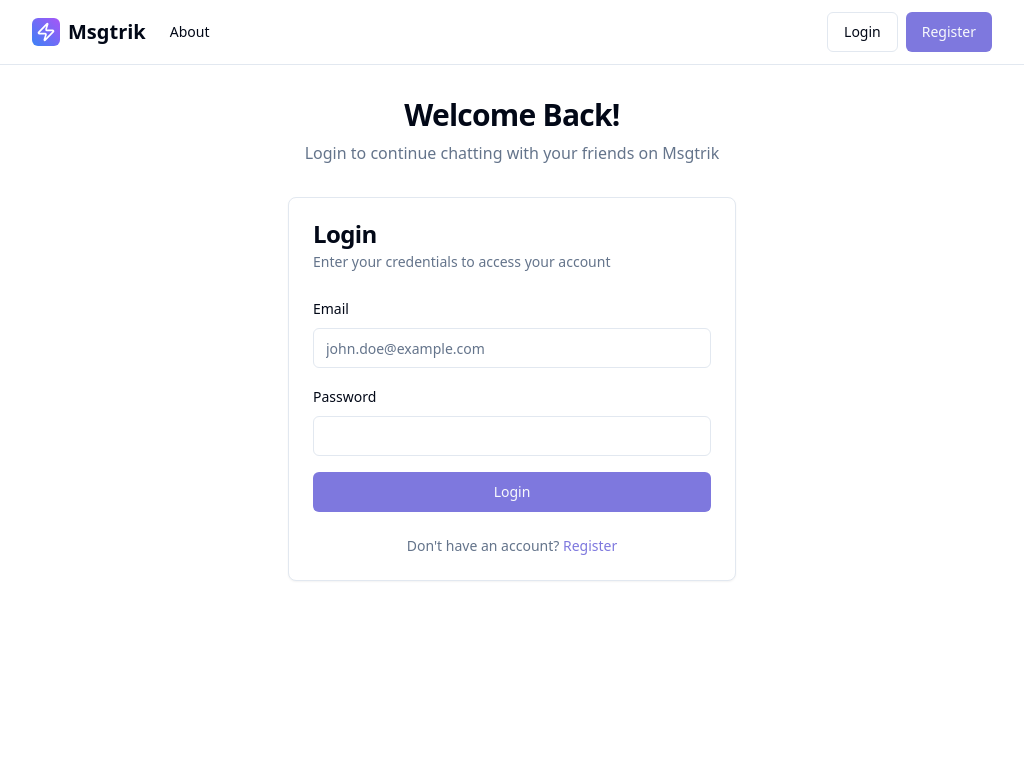
Test: Chat › should send and receive messages
In the field with id "email": (512, 348) [313, 328, 711, 368], type "test@example.com"
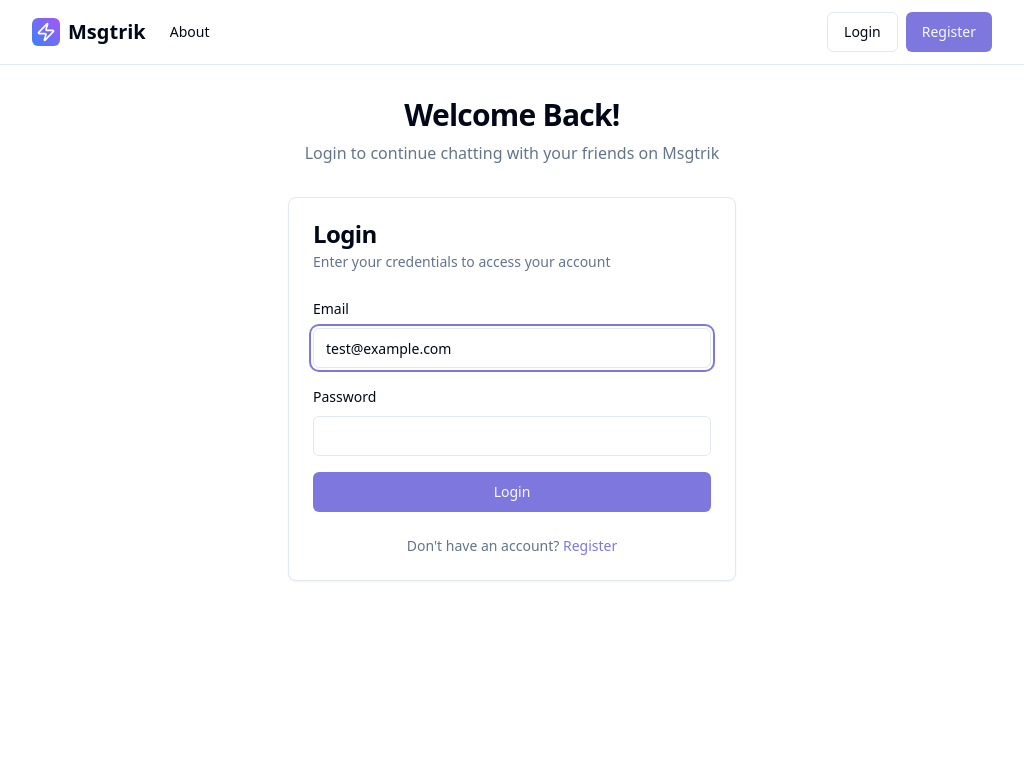
In the password field labelled "Password": (512, 436) [313, 416, 711, 456], type "testpassword"
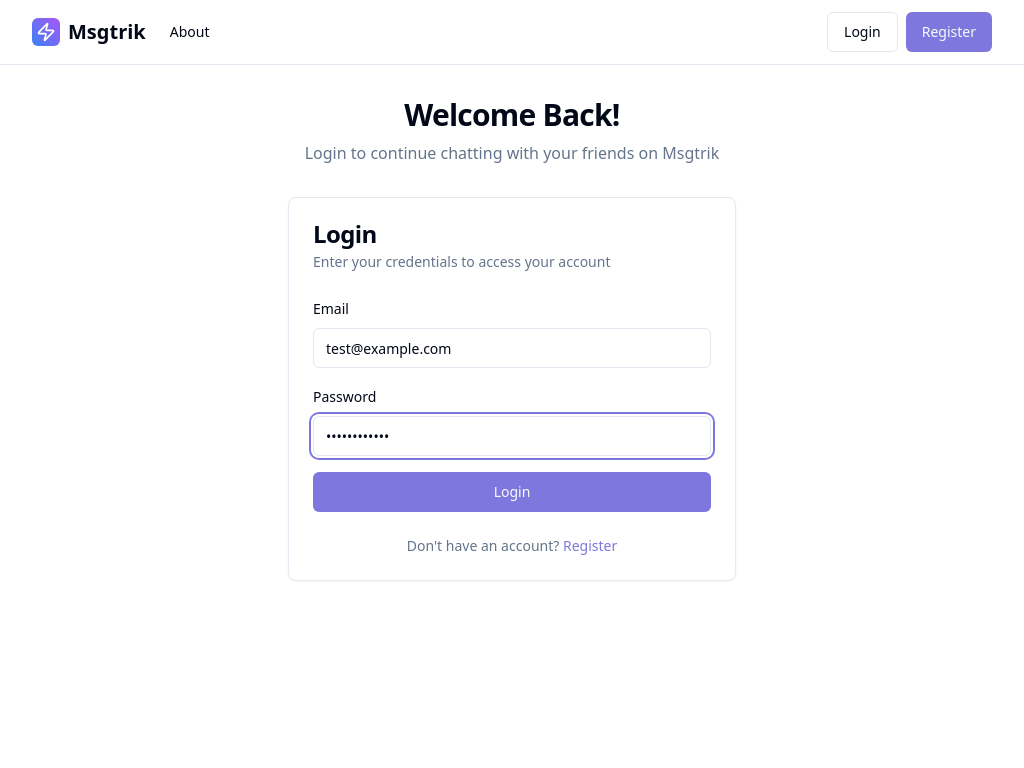
Click the submit button: (512, 492) [313, 472, 711, 512]
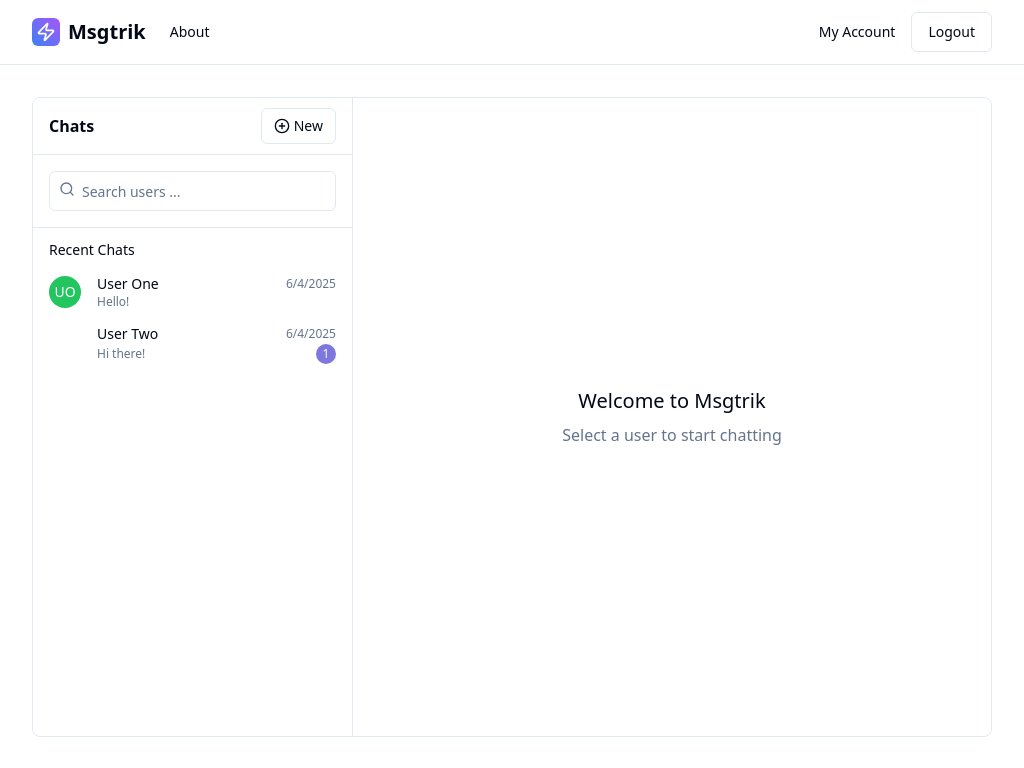
Click the button with test id "chat-item": (65, 292) [41, 268, 344, 316]
(page scrolled)
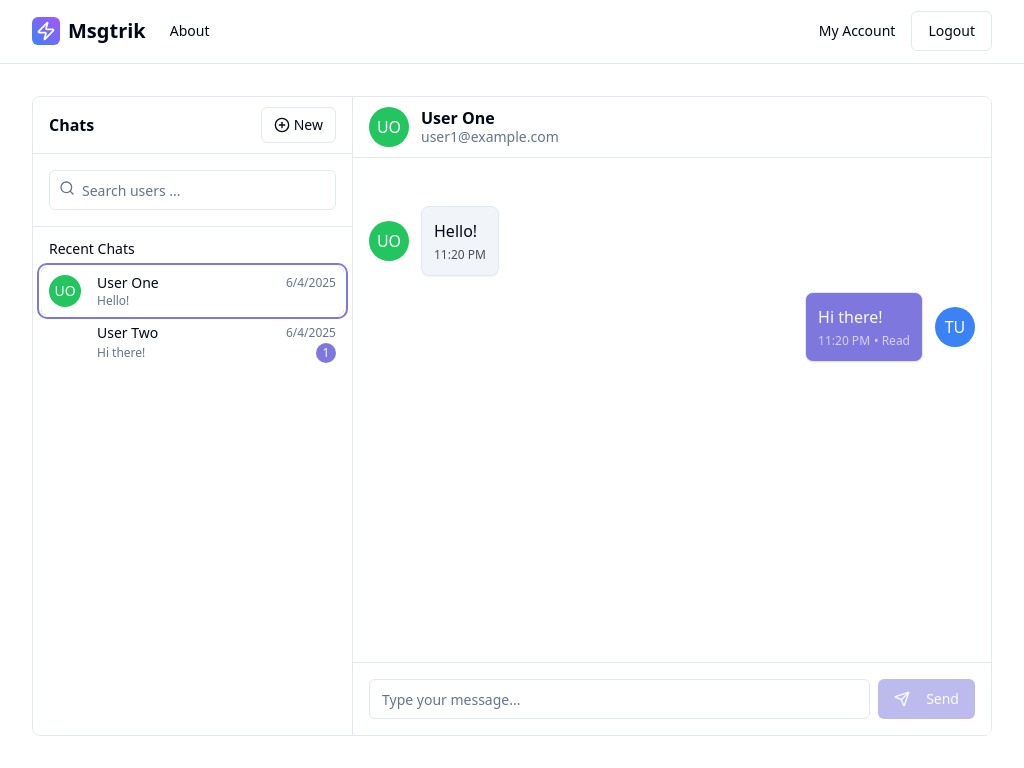
In the field with test id "message-input": (620, 699) [369, 679, 870, 719], type "Hello, this is a test message!"
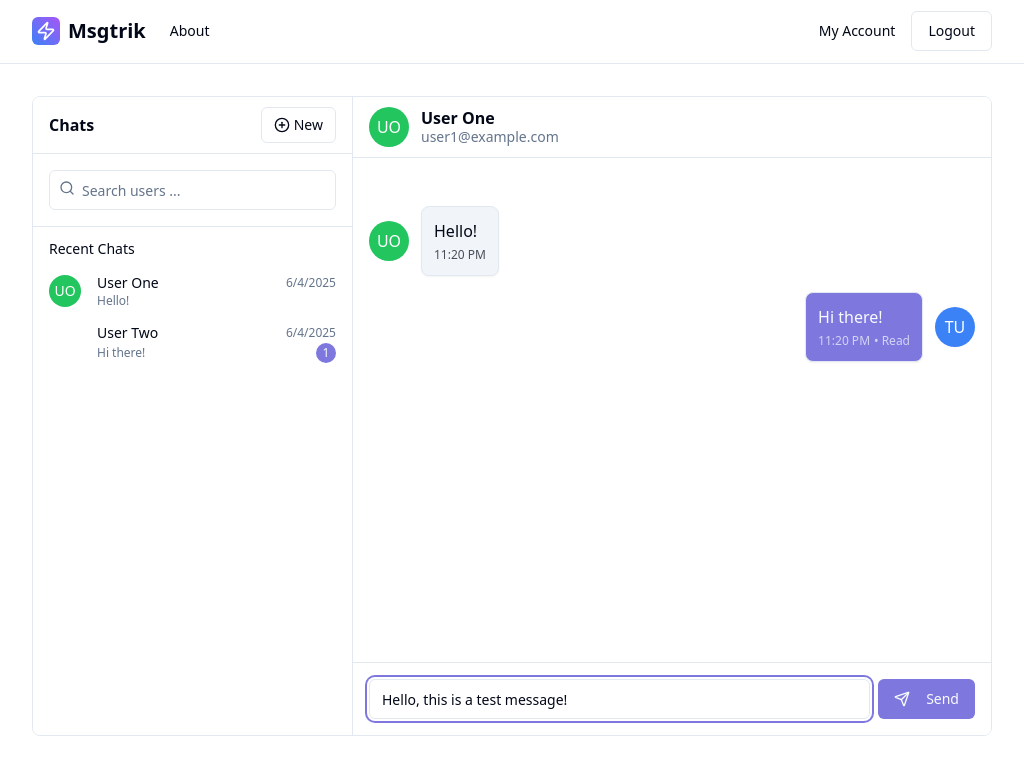
Click the button with test id "send-message-button": (927, 699) [878, 679, 975, 719]
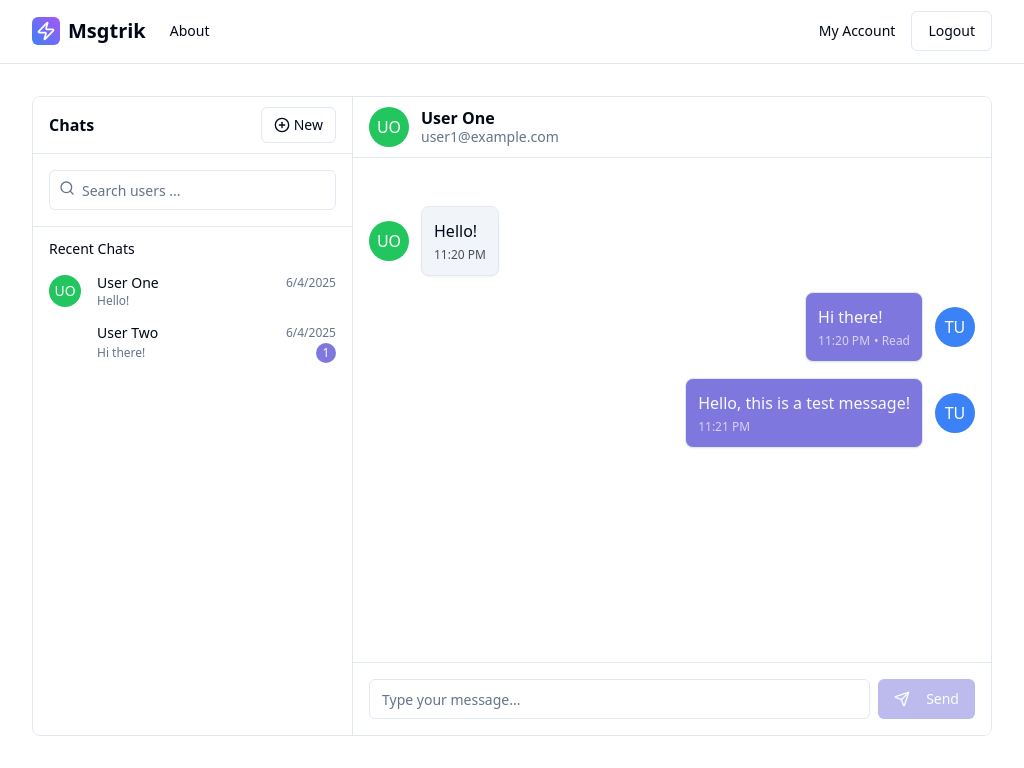
Expected: the text "Hello, this is a test message!" is shown, [698, 391, 910, 415]
